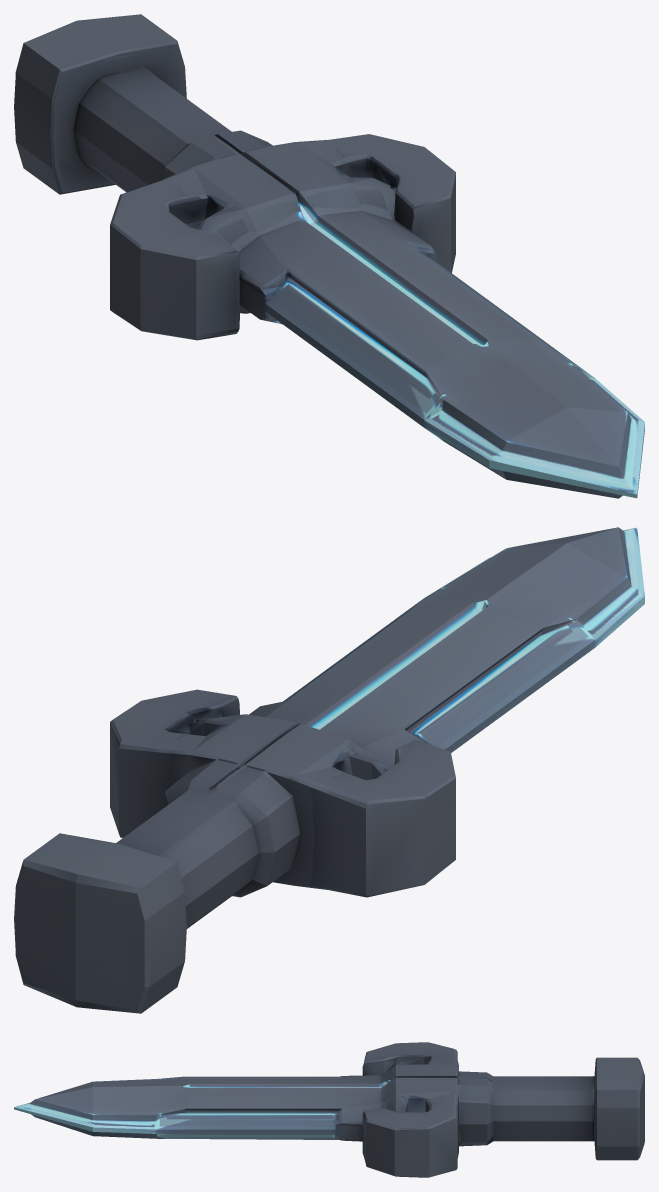
Rendered from evo_ten_thousand_swords.glb.
3 views of the same model, one above another, from view 1: azimuth 30°, elevation 25°; view 2: azimuth 150°, elevation 25°; view 3: azimuth 270°, elevation 25° (orthographic). The views are drawn at different scales.
Parts seen in each view (by area): view 1: 万剑归宗_飞剑; view 2: 万剑归宗_飞剑; view 3: 万剑归宗_飞剑.
Boxes of the visible parts, x1=… form: 万剑归宗_飞剑: x1=14, y1=14, x2=644, y2=498; 万剑归宗_飞剑: x1=14, y1=527, x2=644, y2=1013; 万剑归宗_飞剑: x1=14, y1=1042, x2=644, y2=1177.
Size of the model in its own units: 38.5 by 15.54 by 119.
Materials: 1 (1 with a texture image).
